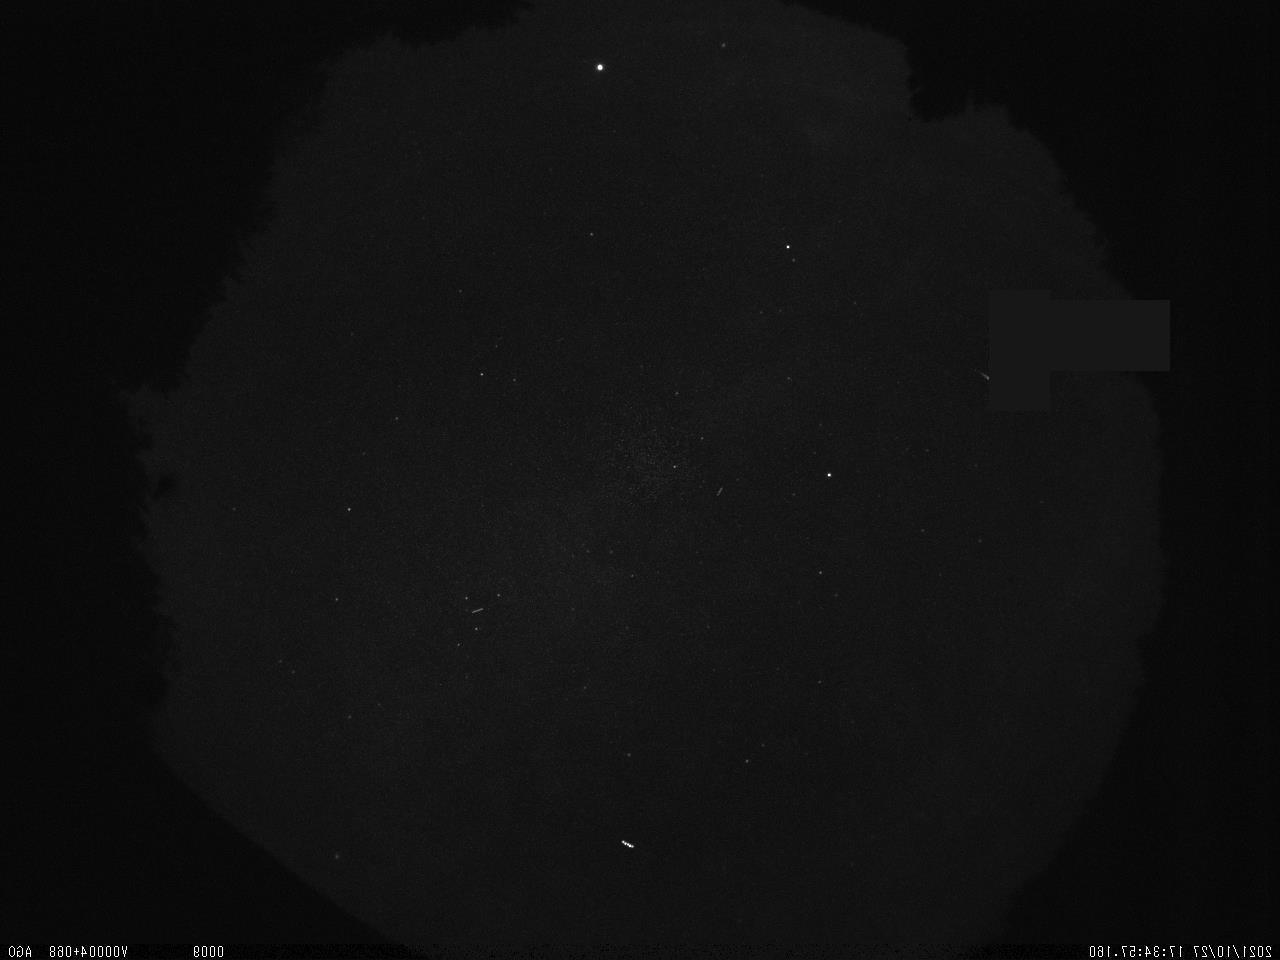meteor: (954, 370, 1041, 407)
